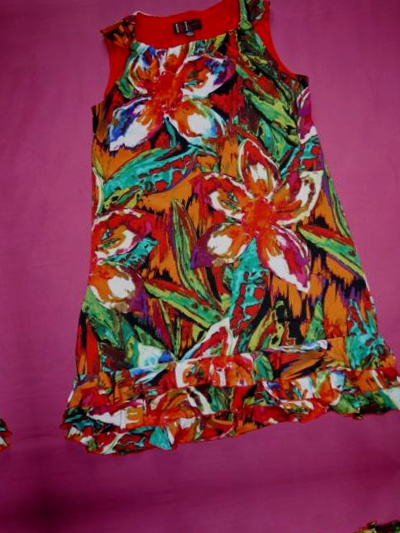Dress: (18, 0, 400, 481), (86, 490, 400, 533), (0, 36, 7, 533), (0, 0, 368, 4)
